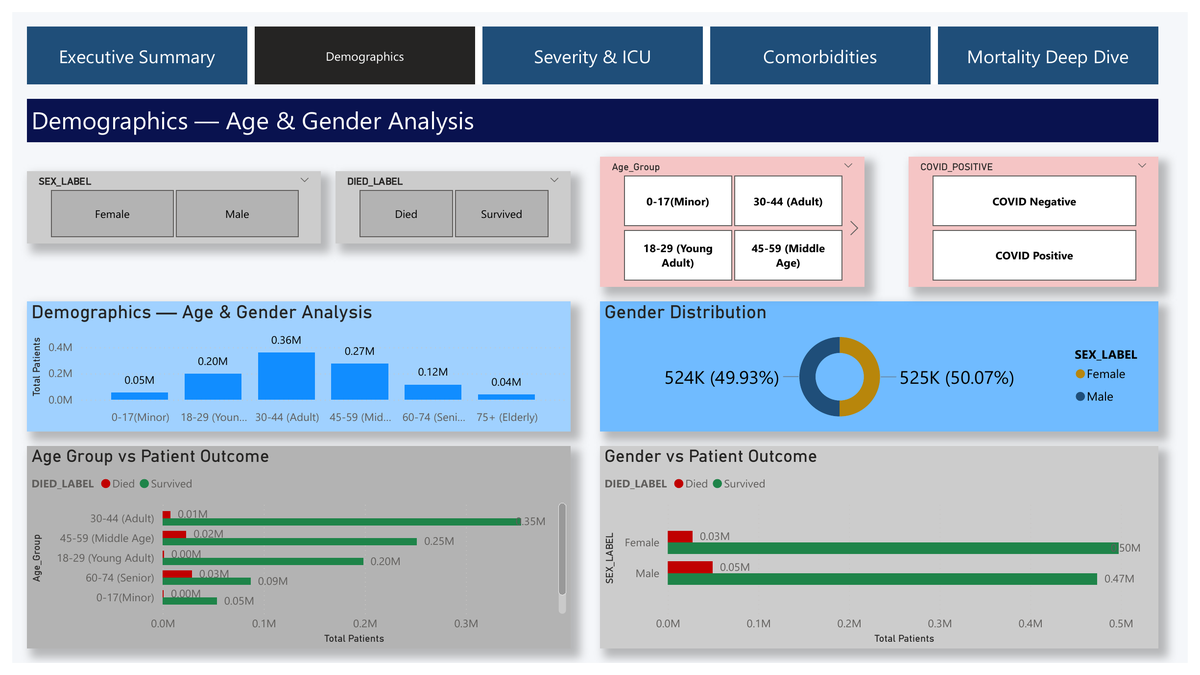

The page's visual inventory and layout, read from the dashboard file:
{"tool":"powerbi","page":{"name":"Demographics","canvas":[1280,720],"ordinal":1},"visuals":[{"type":"textbox","box":[16,96,1232,48],"z":0},{"type":"clusteredColumnChart","title":"Demographics — Age & Gender Analysis","fields":{"Category":["Covid Data.Age_Group"],"Y":["_Measures.Total Patients"]},"box":[16,320,592,144],"z":1000},{"type":"donutChart","title":"Gender Distribution","fields":{"Category":["Covid Data.SEX_LABEL"],"Y":["_Measures.Total Patients"]},"box":[640,320,608,144],"z":2000},{"type":"clusteredBarChart","title":"Age Group vs Patient Outcome","fields":{"Category":["Covid Data.Age_Group"],"Y":["_Measures.Total Patients"],"Series":["Covid Data.DIED_LABEL"]},"box":[16,480,592,224],"z":3000},{"type":"clusteredBarChart","title":"Gender vs Patient Outcome","fields":{"Category":["Covid Data.SEX_LABEL"],"Y":["_Measures.Total Patients"],"Series":["Covid Data.DIED_LABEL"]},"box":[640,480,608,224],"z":4000},{"type":"slicer","fields":{"Values":["Covid Data.Age_Group"]},"box":[640,160,288,144],"z":5000},{"type":"slicer","fields":{"Values":["Covid Data.COVID_POSITIVE"]},"box":[976,160,272,144],"z":6000},{"type":"pageNavigator","box":[16,16,1232,64],"z":7000},{"type":"slicer","fields":{"Values":["Covid Data.SEX_LABEL"]},"box":[16,176,320,80],"z":8000},{"type":"slicer","fields":{"Values":["Covid Data.DIED_LABEL"]},"box":[352,176,256,80],"z":9000}]}

Visuals, with their boxes in screenshot pixels (x1, y1, x2, y2), scaled from the page's 1280x720 canvas onto the 1200x675 screenshot:
textbox: {"left": 15, "top": 90, "right": 1170, "bottom": 135}
"Demographics — Age & Gender Analysis" clusteredColumnChart: {"left": 15, "top": 300, "right": 570, "bottom": 435}
"Gender Distribution" donutChart: {"left": 600, "top": 300, "right": 1170, "bottom": 435}
"Age Group vs Patient Outcome" clusteredBarChart: {"left": 15, "top": 450, "right": 570, "bottom": 660}
"Gender vs Patient Outcome" clusteredBarChart: {"left": 600, "top": 450, "right": 1170, "bottom": 660}
slicer - Covid Data.Age_Group: {"left": 600, "top": 150, "right": 870, "bottom": 285}
slicer - Covid Data.COVID_POSITIVE: {"left": 915, "top": 150, "right": 1170, "bottom": 285}
pageNavigator: {"left": 15, "top": 15, "right": 1170, "bottom": 75}
slicer - Covid Data.SEX_LABEL: {"left": 15, "top": 165, "right": 315, "bottom": 240}
slicer - Covid Data.DIED_LABEL: {"left": 330, "top": 165, "right": 570, "bottom": 240}
